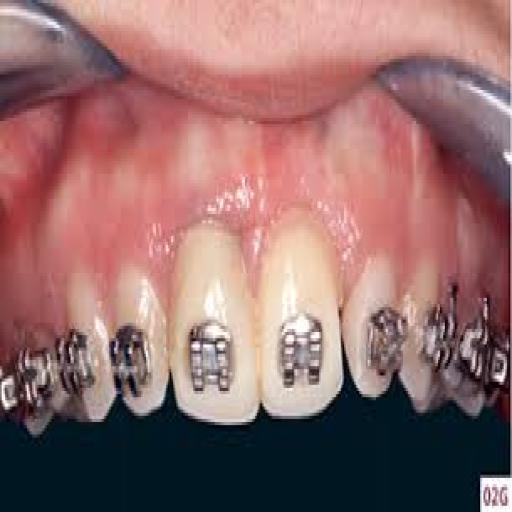correct_brace: (272, 306, 326, 388), (185, 317, 239, 398), (364, 297, 410, 386), (109, 318, 153, 408)
incorrect_brace: (343, 246, 410, 416), (109, 269, 166, 423)
